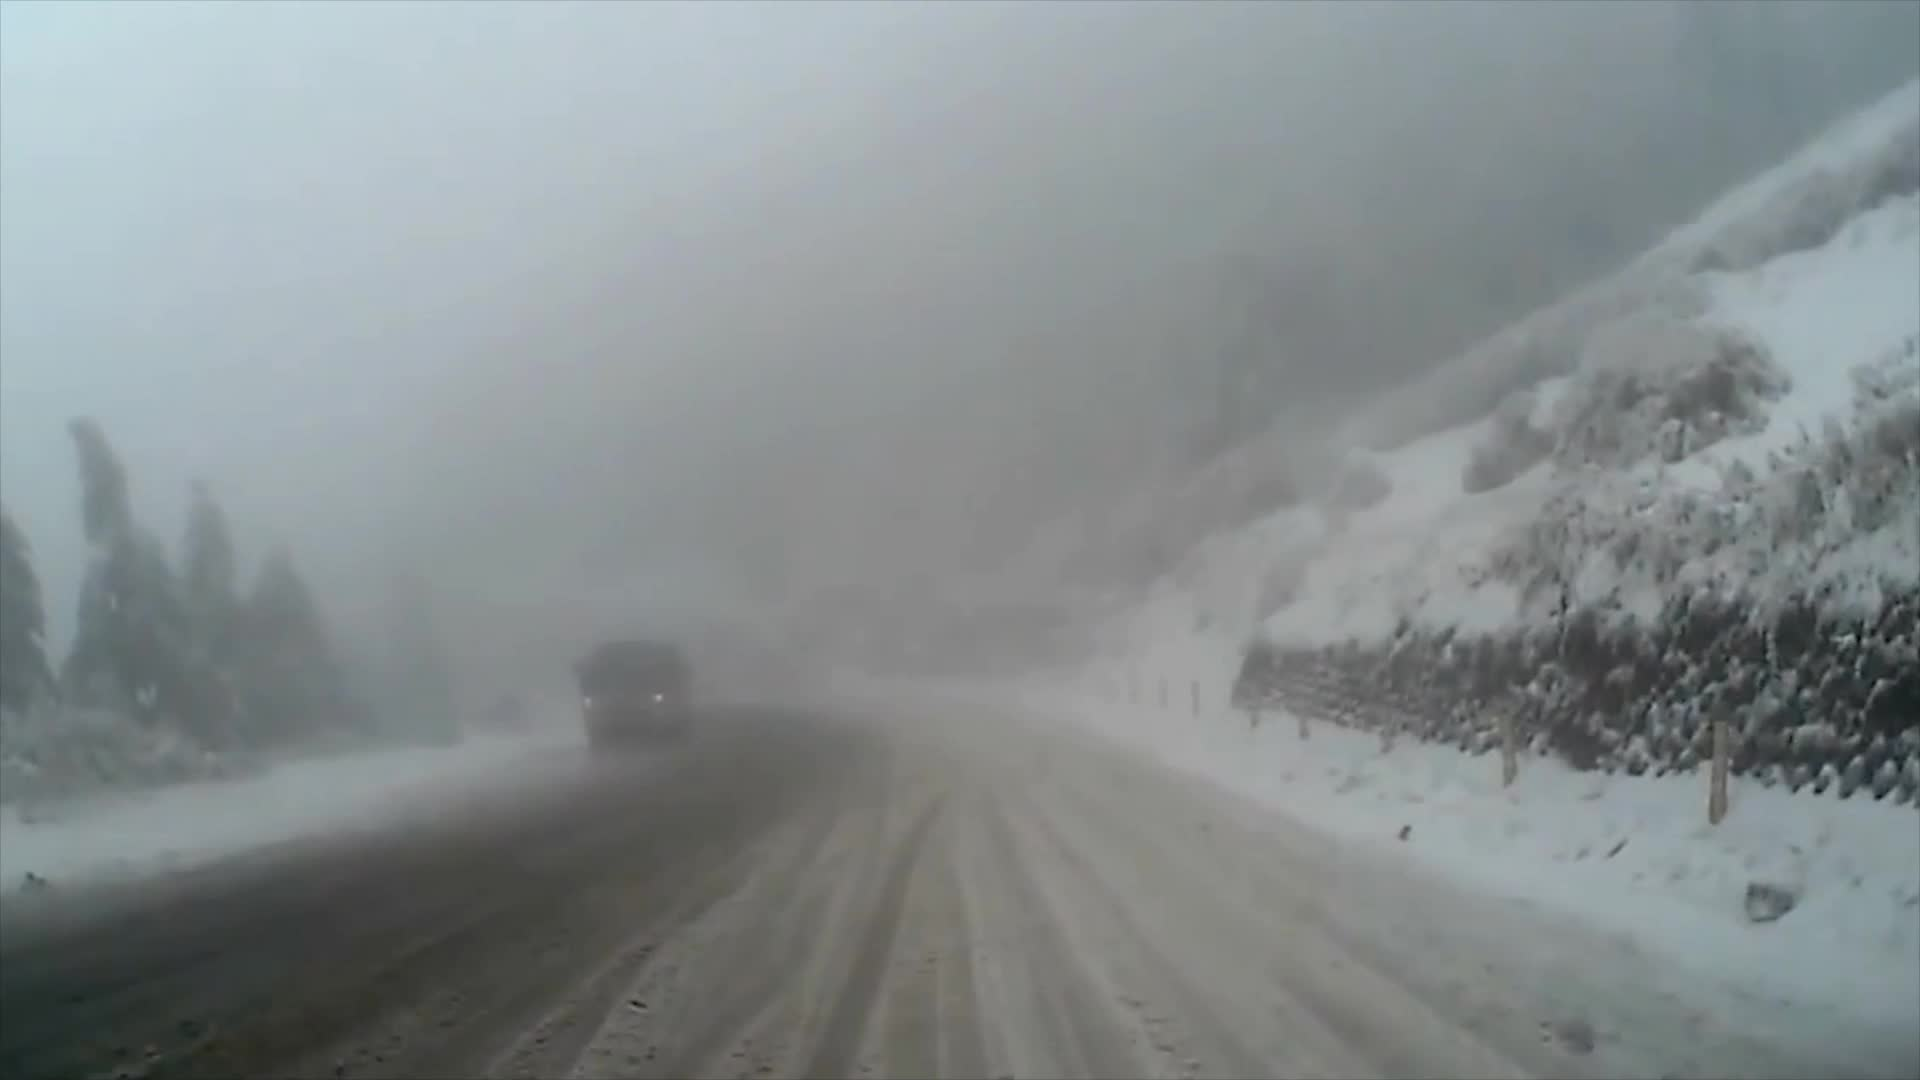vehicle: (567, 636, 692, 742)
